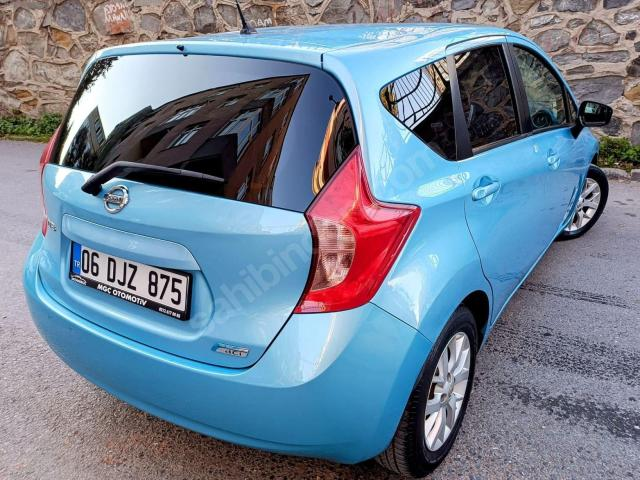plaka: (70, 242, 192, 320)
